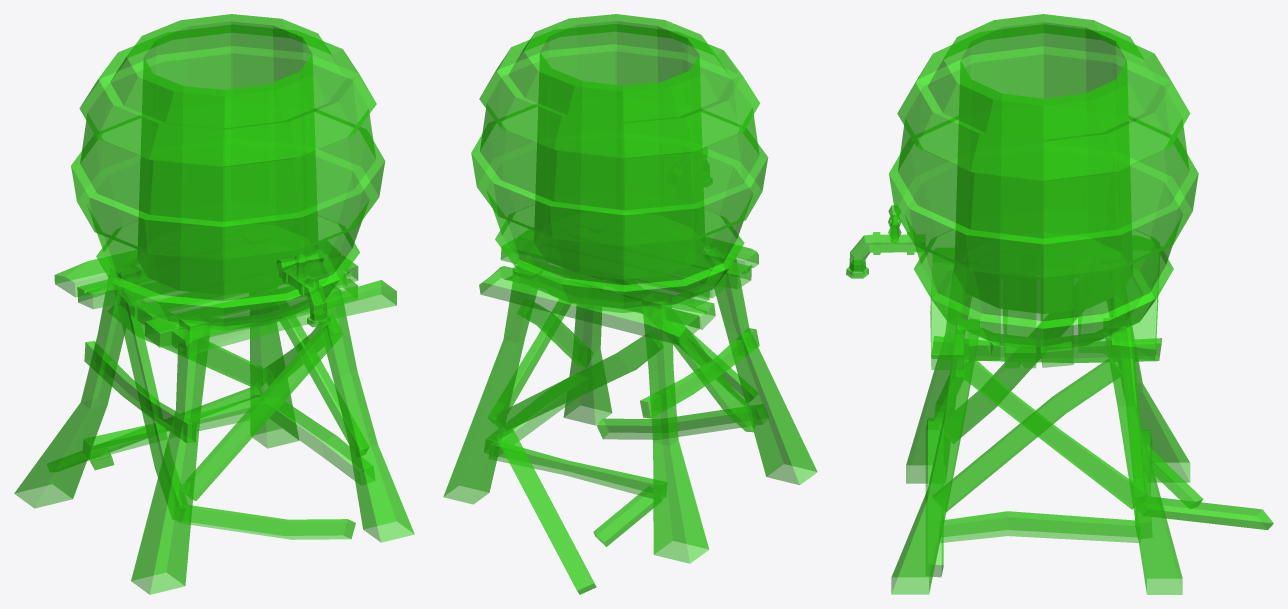
Rendered from Water_storage_possible_to_place.fbx.
3 renders of one model, left to right at view 1: azimuth 30°, elevation 25°; view 2: azimuth 150°, elevation 25°; view 3: azimuth 270°, elevation 25°, orthographic. The views are drawn at different scales.
Visible parts, largest first — view 1: Cube.013; view 2: Cube.013; view 3: Cube.013.
Part boxes in pixels (<box>): Cube.013: <box>14,14,414,594</box>; Cube.013: <box>443,14,817,594</box>; Cube.013: <box>846,14,1273,594</box>.
Size of the model in its own units: 3.95 by 4.93 by 6.4.
